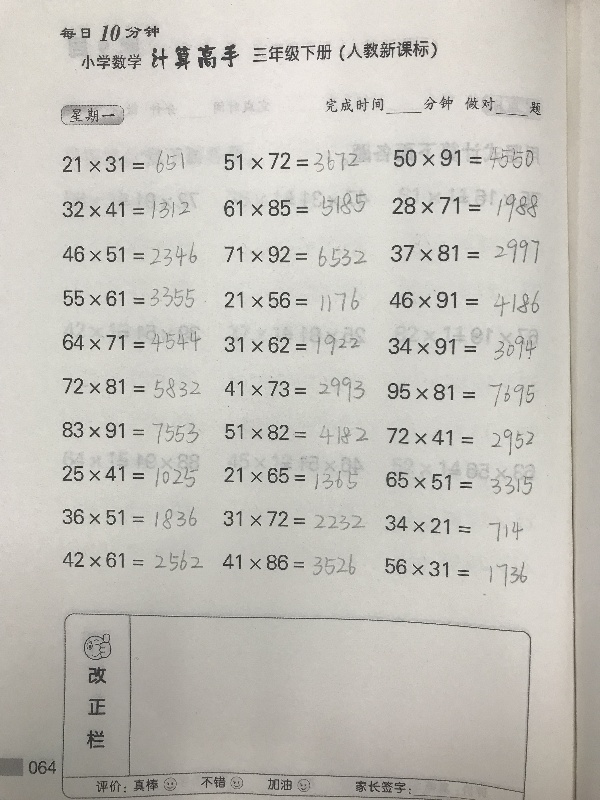equation: (220, 369, 368, 408), (220, 323, 369, 359), (381, 555, 532, 590), (220, 501, 369, 535), (389, 188, 542, 221), (386, 285, 541, 317), (381, 467, 536, 498), (383, 379, 536, 410), (388, 235, 541, 266), (390, 143, 543, 174), (219, 191, 370, 222), (58, 239, 200, 271), (381, 513, 526, 544), (224, 415, 369, 446), (58, 546, 206, 576), (220, 147, 368, 177), (58, 503, 200, 534), (222, 242, 371, 271), (383, 425, 536, 453), (384, 332, 536, 360), (59, 327, 205, 356), (219, 550, 360, 580), (59, 282, 210, 310), (60, 374, 205, 403), (61, 416, 206, 445), (60, 460, 205, 489), (220, 462, 369, 490), (59, 146, 189, 178), (59, 197, 194, 223), (222, 286, 362, 311)
